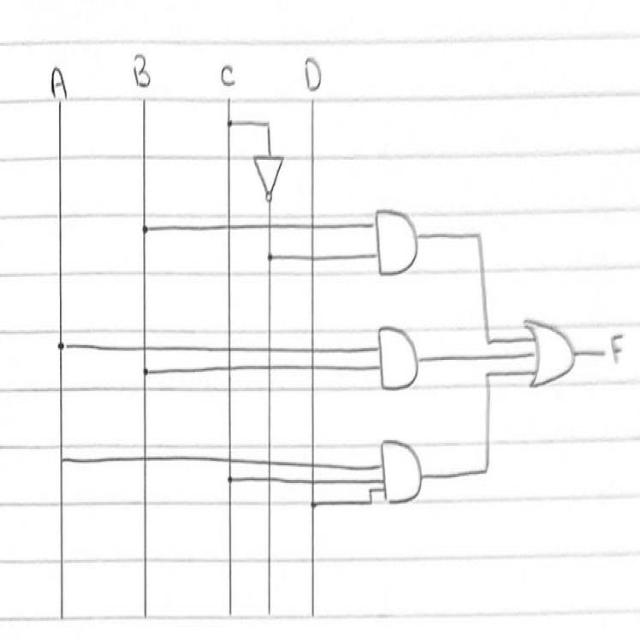AND: (375, 426, 431, 513), (366, 194, 420, 282), (372, 316, 425, 403)
NOT: (247, 148, 289, 211)
OR: (516, 309, 582, 403)
